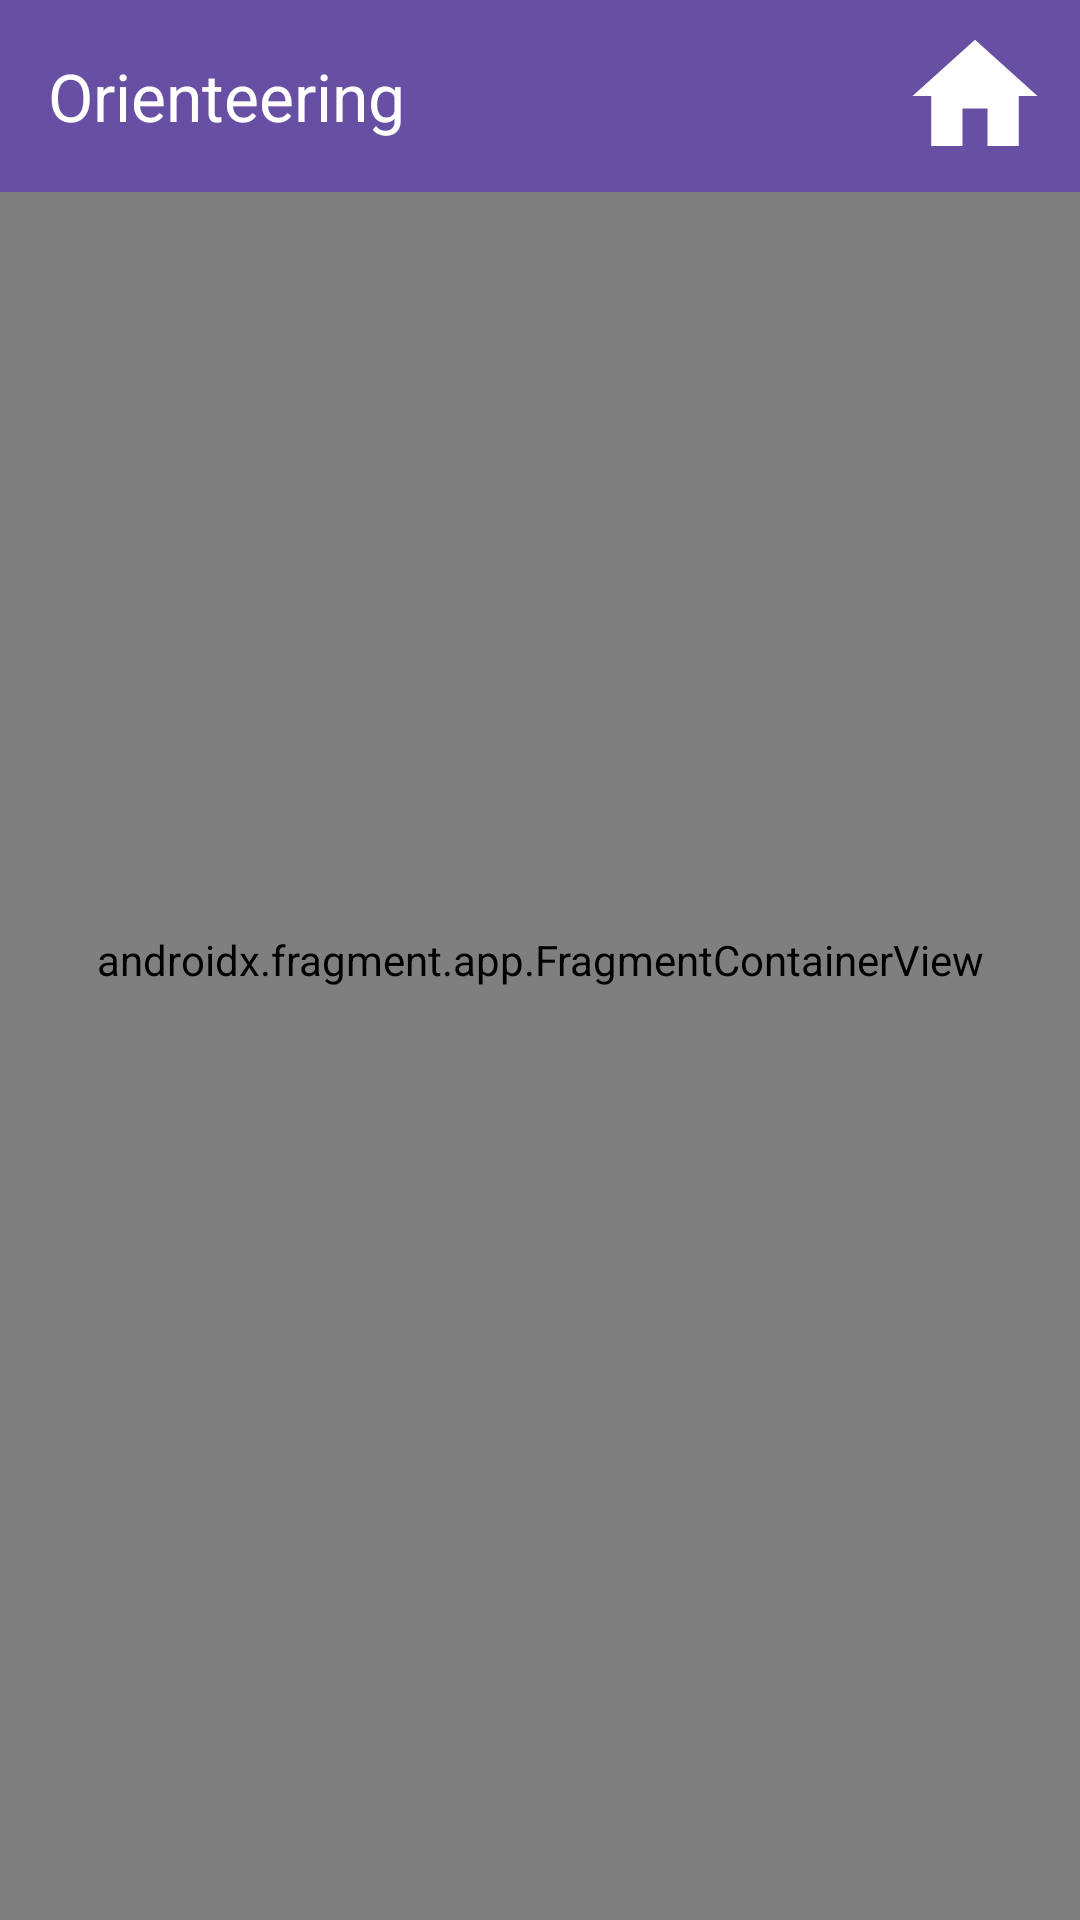

Icons on this 1080w x 1920h Android screen, each with its box as [x1=x1, y1=y1, x2=x2, y2=y2]:
Go to activity_main.xml: [x1=913, y1=40, x2=1037, y2=146]
